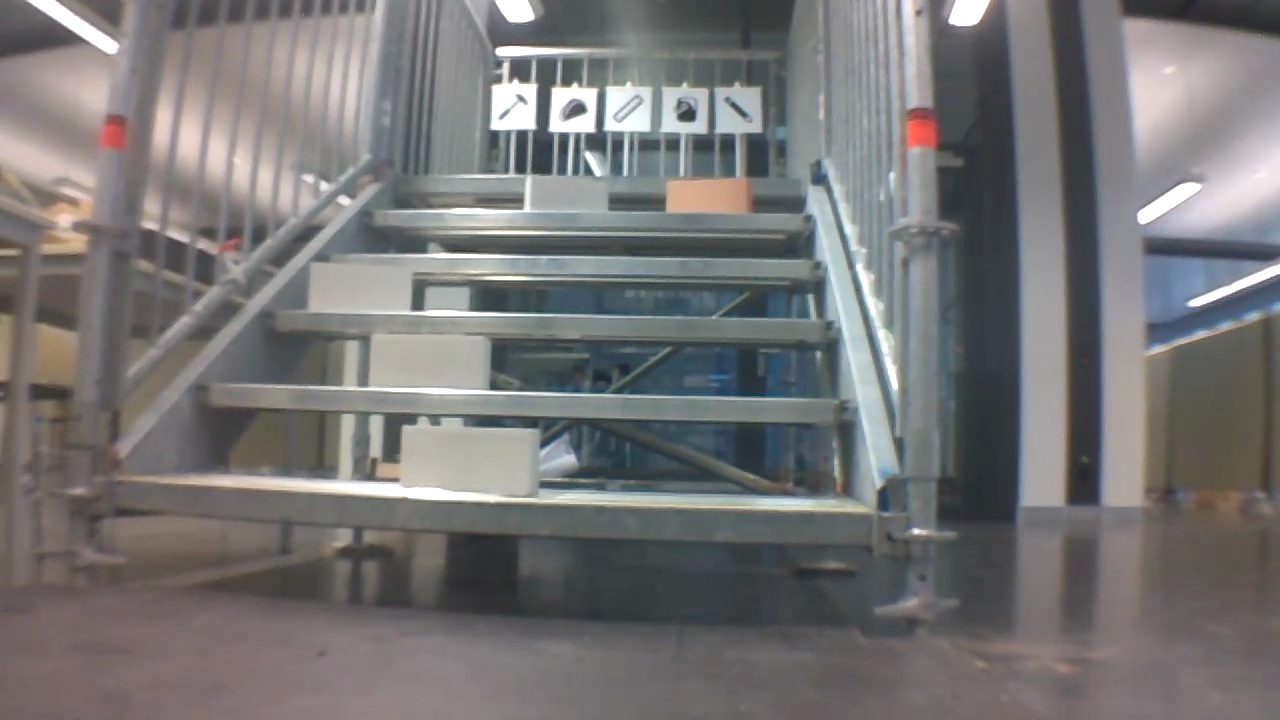brick: (400, 428, 538, 495), (369, 334, 489, 388), (310, 264, 408, 311), (668, 177, 748, 212), (525, 175, 604, 210)
bucket: (670, 92, 701, 124)
edge: (113, 478, 869, 543), (192, 384, 853, 422), (262, 312, 838, 343), (322, 252, 825, 282), (386, 174, 805, 195), (366, 211, 817, 230)
hammer: (494, 88, 530, 124)
pencil: (718, 92, 758, 129)
ruler: (612, 92, 647, 128)
stairs: (71, 1, 945, 636)
steps: (105, 169, 882, 565)
taco: (556, 95, 591, 124)
